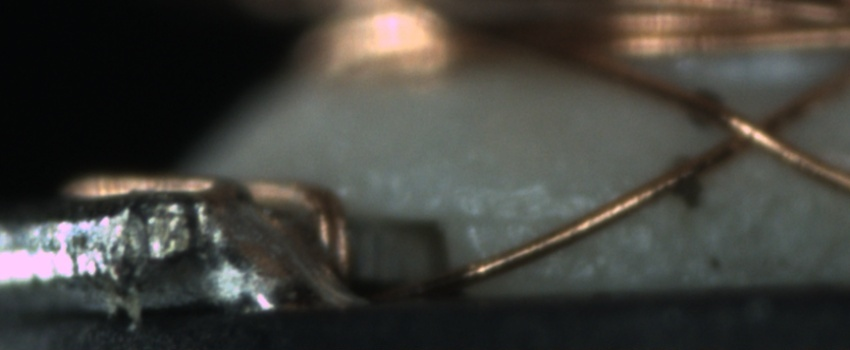CL: (709, 94, 808, 164)
DL: (453, 187, 617, 251)
TE: (60, 167, 363, 293)
